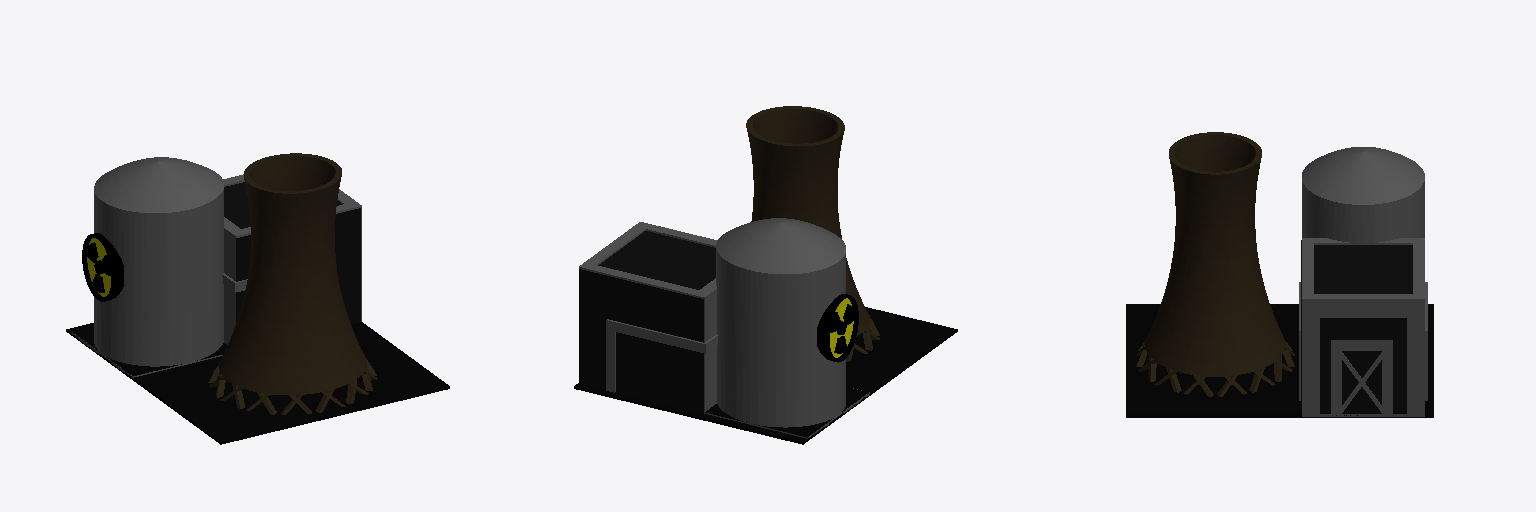
File: centrale_nucleaire.obj
3 renders of one model, left to right at view 1: azimuth 30°, elevation 25°; view 2: azimuth 150°, elevation 25°; view 3: azimuth 270°, elevation 25°, orthographic.
Parts seen in each view (by area): view 1: centrale_nucleaire_BatimentReacteur, centrale_nucleaire_TourDeRefroidissement, centrale_nucleaire_Sol, centrale_nucleaire_BatimentCarre, centrale_nucleaire_Noir; view 2: centrale_nucleaire_BatimentReacteur, centrale_nucleaire_BatimentCarre, centrale_nucleaire_TourDeRefroidissement, centrale_nucleaire_Sol, centrale_nucleaire_Noir; view 3: centrale_nucleaire_TourDeRefroidissement, centrale_nucleaire_BatimentReacteur, centrale_nucleaire_BatimentCarre, centrale_nucleaire_Sol.
Boxes of the visible parts, x1=… form: centrale_nucleaire_BatimentReacteur: x1=71, y1=157, x2=361, y2=377; centrale_nucleaire_TourDeRefroidissement: x1=208, y1=153, x2=377, y2=414; centrale_nucleaire_Sol: x1=66, y1=322, x2=449, y2=444; centrale_nucleaire_BatimentCarre: x1=224, y1=182, x2=360, y2=324; centrale_nucleaire_Noir: x1=82, y1=233, x2=123, y2=301; centrale_nucleaire_BatimentReacteur: x1=579, y1=218, x2=869, y2=438; centrale_nucleaire_BatimentCarre: x1=579, y1=231, x2=715, y2=412; centrale_nucleaire_TourDeRefroidissement: x1=746, y1=106, x2=879, y2=361; centrale_nucleaire_Sol: x1=574, y1=307, x2=957, y2=444; centrale_nucleaire_Noir: x1=817, y1=294, x2=858, y2=362; centrale_nucleaire_TourDeRefroidissement: x1=1136, y1=132, x2=1294, y2=396; centrale_nucleaire_BatimentReacteur: x1=1299, y1=147, x2=1427, y2=416; centrale_nucleaire_BatimentCarre: x1=1301, y1=240, x2=1412, y2=414; centrale_nucleaire_Sol: x1=1126, y1=304, x2=1433, y2=417.
Size of the model in its own units: 3.5 by 3 by 4.